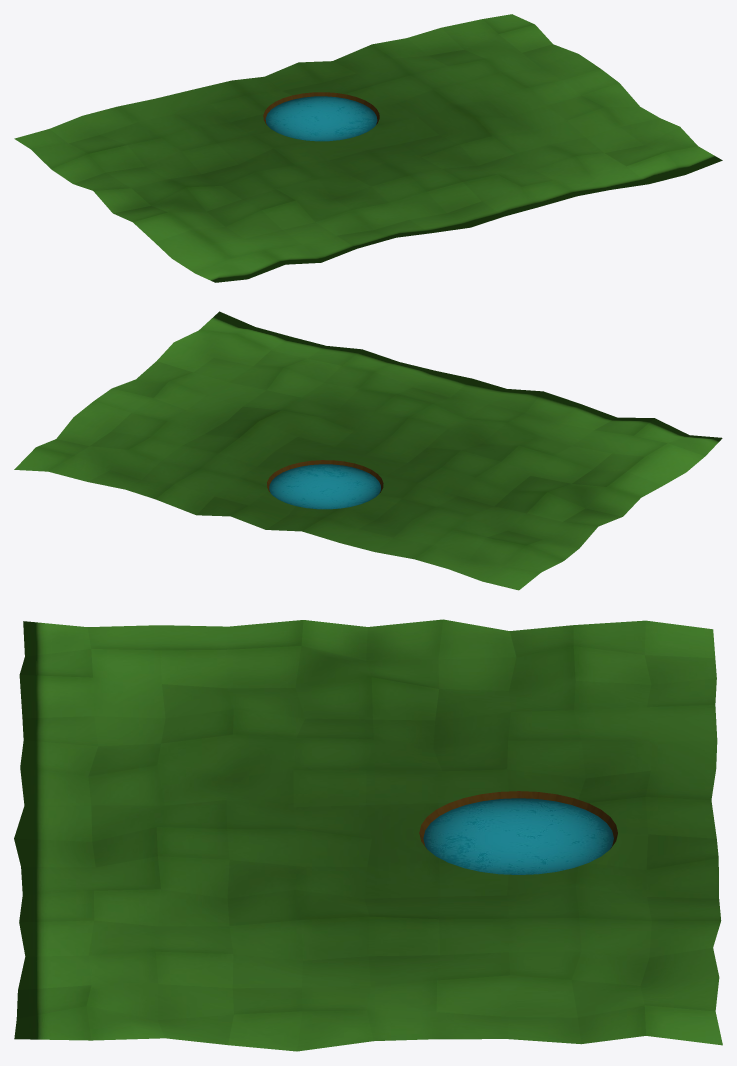
The model's file is Ground1.fbx.
The picture shows the model from 3 angles, top to bottom: view 1: azimuth 30°, elevation 25°; view 2: azimuth 150°, elevation 25°; view 3: azimuth 270°, elevation 25°; orthographic projection. The views are drawn at different scales.
Parts seen in each view (by area): view 1: Plane.001; view 2: Plane.001; view 3: Plane.001.
Boxes of the visible parts, <box> form: Plane.001: <box>14,14,722,282</box>; Plane.001: <box>14,311,722,590</box>; Plane.001: <box>14,619,722,1051</box>.
Size of the model in its own units: 1011 by 18.13 by 713.
